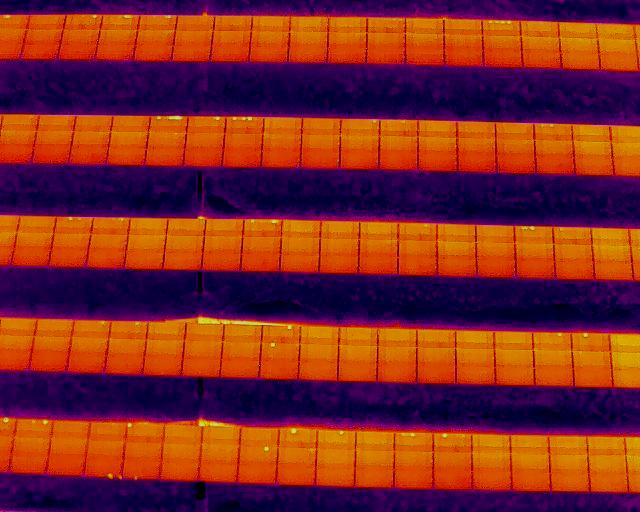Cell: (123, 455, 161, 479), (238, 444, 278, 464), (261, 342, 299, 361), (571, 334, 610, 351), (534, 333, 571, 350), (92, 217, 129, 234), (341, 120, 379, 136), (262, 326, 300, 342), (126, 423, 165, 438), (187, 116, 225, 131), (138, 15, 176, 30), (279, 429, 317, 444), (433, 433, 471, 447), (317, 429, 355, 443), (101, 15, 138, 29), (65, 15, 101, 29)
Cell-Multi: (84, 455, 122, 477), (515, 226, 553, 244), (243, 219, 281, 236), (16, 420, 53, 437), (55, 217, 92, 234), (394, 431, 433, 447), (534, 124, 572, 140), (225, 117, 262, 133), (483, 21, 520, 35)
No-Anomaly: (354, 465, 394, 489), (394, 467, 433, 491), (354, 445, 394, 468), (160, 456, 199, 479), (316, 464, 355, 486), (199, 459, 239, 480), (30, 144, 71, 164), (472, 452, 511, 473), (588, 454, 627, 475), (433, 468, 472, 489), (67, 144, 107, 164), (589, 473, 629, 493), (46, 455, 86, 475), (550, 454, 589, 474), (587, 436, 626, 456), (433, 448, 473, 467), (394, 447, 434, 466), (534, 368, 573, 387), (105, 355, 144, 374), (438, 257, 477, 276), (200, 439, 239, 458), (510, 436, 549, 455), (278, 444, 317, 463), (316, 445, 355, 464), (301, 150, 340, 169), (68, 354, 105, 374), (161, 439, 202, 457), (515, 260, 556, 278), (549, 435, 587, 454), (511, 455, 549, 474), (10, 454, 48, 473), (472, 472, 510, 491), (298, 345, 338, 363), (260, 361, 300, 379), (220, 359, 260, 377), (554, 244, 594, 262), (239, 464, 279, 482), (279, 464, 316, 483), (495, 366, 534, 384), (533, 351, 572, 369), (379, 137, 418, 155), (417, 331, 456, 349), (186, 324, 225, 342), (242, 236, 281, 254), (203, 236, 242, 254), (478, 259, 517, 277), (359, 255, 398, 273), (512, 473, 551, 491), (49, 250, 88, 268), (497, 156, 536, 174), (418, 154, 457, 172), (126, 235, 167, 252), (10, 248, 51, 265), (340, 136, 378, 154), (222, 149, 260, 167), (574, 368, 610, 387), (184, 342, 222, 360), (339, 346, 377, 364), (30, 353, 68, 371), (224, 324, 262, 342), (339, 328, 377, 346), (575, 156, 613, 174), (52, 420, 90, 438), (472, 434, 510, 452), (551, 473, 589, 491), (593, 245, 631, 263), (164, 252, 202, 270), (183, 149, 223, 166), (106, 147, 146, 164), (554, 263, 594, 280), (398, 240, 438, 257), (281, 238, 321, 255), (320, 255, 360, 272), (457, 366, 494, 384), (111, 322, 148, 340), (147, 323, 184, 341), (417, 366, 456, 383), (222, 342, 261, 359), (299, 362, 338, 379), (145, 148, 184, 165), (495, 123, 534, 140), (74, 116, 113, 133), (378, 330, 417, 347), (457, 157, 496, 174), (515, 244, 554, 261), (50, 438, 89, 455), (14, 232, 55, 248), (560, 52, 601, 68), (111, 116, 149, 133), (144, 357, 182, 374), (182, 359, 220, 376), (378, 366, 416, 383), (378, 348, 416, 365), (186, 131, 224, 148), (457, 140, 495, 157), (457, 332, 495, 349), (72, 321, 110, 338), (301, 327, 339, 344), (536, 156, 574, 173), (360, 222, 398, 239), (282, 221, 320, 238), (321, 221, 359, 238), (202, 254, 240, 271), (88, 251, 126, 268), (522, 52, 562, 68), (599, 52, 639, 68), (261, 150, 301, 166), (249, 47, 289, 63), (241, 255, 281, 271), (86, 439, 126, 455), (124, 252, 164, 268), (592, 228, 629, 245), (495, 349, 534, 365), (23, 29, 62, 45), (106, 340, 145, 356), (70, 338, 109, 354), (379, 120, 418, 136), (418, 138, 457, 154), (418, 122, 457, 138), (594, 264, 633, 280), (475, 226, 514, 242), (399, 258, 438, 274), (124, 438, 163, 454), (438, 241, 477, 257), (406, 18, 445, 34), (36, 321, 72, 338), (145, 341, 183, 357), (456, 350, 494, 366), (457, 123, 495, 139), (147, 132, 185, 148), (129, 218, 167, 234), (398, 223, 436, 239), (205, 219, 243, 235), (554, 227, 592, 243), (165, 235, 203, 251), (13, 438, 51, 454), (135, 46, 173, 62), (96, 44, 134, 60), (281, 255, 319, 271), (437, 224, 475, 240), (33, 338, 70, 354), (573, 351, 610, 367), (89, 234, 126, 250), (89, 422, 126, 438), (173, 45, 210, 61), (71, 132, 110, 147), (417, 349, 456, 364), (262, 135, 301, 150), (328, 32, 367, 47), (444, 35, 483, 50), (367, 33, 406, 48), (224, 134, 263, 149), (338, 365, 377, 380), (263, 120, 302, 135), (109, 132, 148, 147), (496, 141, 535, 156), (495, 333, 534, 348), (289, 47, 328, 62), (359, 240, 398, 255), (166, 220, 205, 235), (320, 239, 359, 254), (483, 36, 522, 51), (240, 428, 279, 443), (476, 243, 515, 258), (367, 48, 406, 63), (484, 51, 523, 66), (340, 155, 379, 170), (53, 234, 89, 250), (290, 32, 328, 47), (137, 30, 175, 45), (302, 119, 340, 134), (535, 141, 573, 156), (444, 20, 482, 35), (521, 22, 559, 37), (559, 22, 597, 37), (597, 24, 635, 39), (17, 216, 55, 231), (290, 17, 328, 32), (252, 16, 290, 31), (521, 36, 559, 51), (211, 46, 249, 61), (58, 45, 96, 60), (357, 431, 395, 446), (328, 48, 366, 63), (378, 155, 416, 170), (444, 51, 484, 65), (37, 116, 74, 131), (62, 29, 99, 44), (212, 31, 251, 45), (164, 426, 203, 440), (98, 30, 136, 44), (406, 35, 444, 49), (252, 32, 290, 46), (573, 141, 611, 155), (573, 126, 611, 140), (301, 135, 339, 149), (214, 16, 252, 30), (329, 18, 367, 32), (368, 18, 406, 32), (202, 427, 240, 441), (27, 15, 64, 29), (177, 16, 214, 30), (407, 49, 444, 63), (34, 131, 73, 144), (560, 38, 599, 51), (22, 46, 58, 60), (175, 31, 213, 44), (598, 39, 636, 52)
Unclassified: (149, 116, 187, 132)
